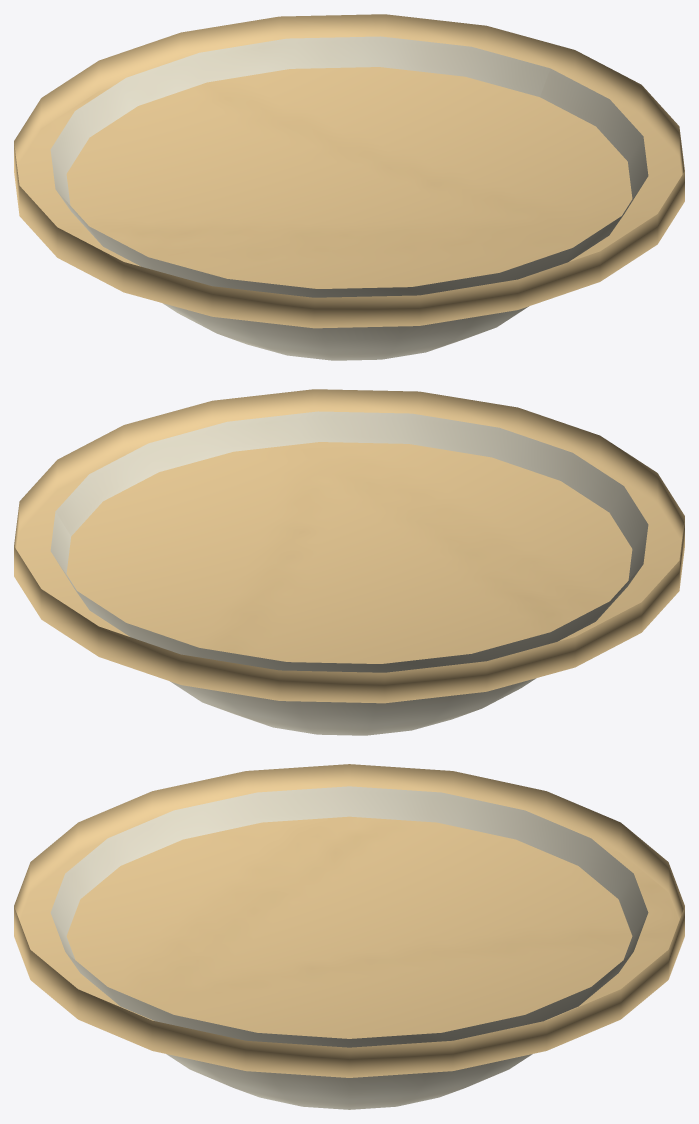
Rendered from Light.fbx.
3 renders of one model, top to bottom at view 1: azimuth 30°, elevation 25°; view 2: azimuth 150°, elevation 25°; view 3: azimuth 270°, elevation 25°, orthographic.
Parts seen in each view (by area): view 1: light_daiza, Light_hikari; view 2: light_daiza, Light_hikari; view 3: light_daiza, Light_hikari.
Boxes of the visible parts, x1,y1,x2,y2 form: light_daiza: (14,14,684,328); Light_hikari: (50,36,648,360); light_daiza: (14,389,684,703); Light_hikari: (50,411,648,735); light_daiza: (14,764,684,1077); Light_hikari: (50,786,648,1109).
Size of the model in its own units: 60 by 17.05 by 60.
2 materials, 2 textured.
